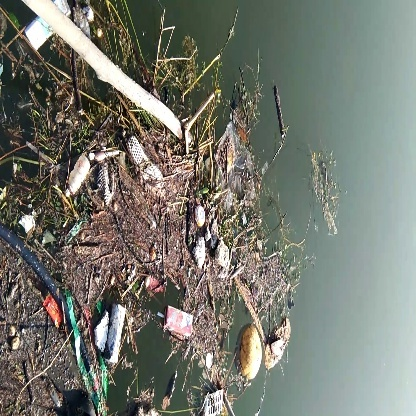ball: (238, 322, 266, 382)
branch: (268, 76, 304, 147)
milk-box: (163, 304, 197, 346)
